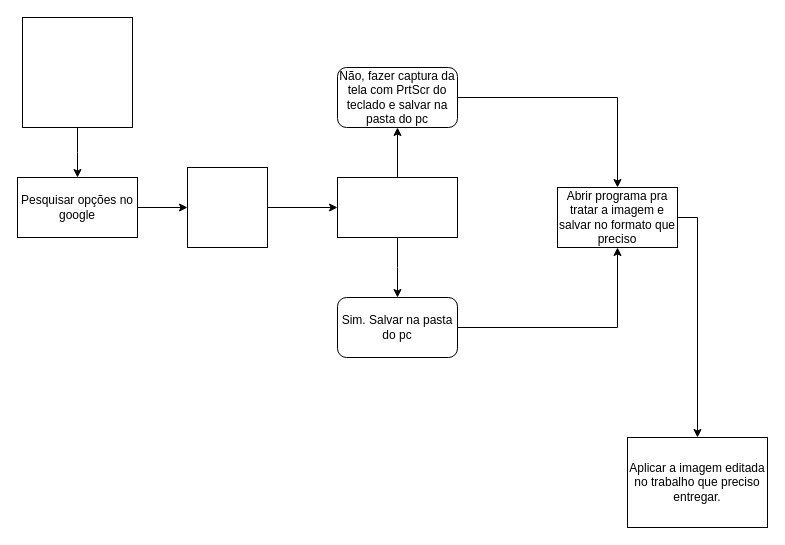
Image size: 785x545. Some labels were removed from this diagram. The shapes that lost their labels are listed below. From the top down, each one's centre as x and y in pixels, then its label:
(x=77, y=72): Preciso de uma imagem de paisagem para um trabalho escolar
(x=227, y=207): achei a imagem ideal
(x=397, y=207): Disponível para download?
